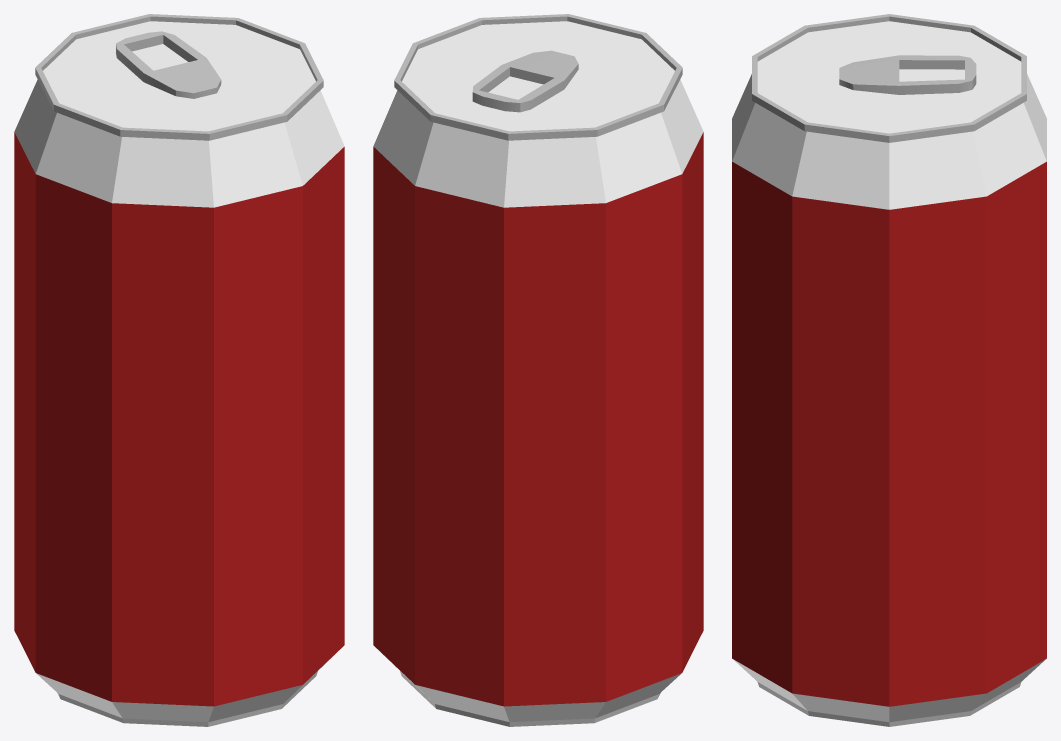
The model's file is can_a.fbx.
3 renders of one model, left to right at view 1: azimuth 30°, elevation 25°; view 2: azimuth 150°, elevation 25°; view 3: azimuth 270°, elevation 25°, orthographic.
Visible parts, largest first — view 1: Can_A; view 2: Can_A; view 3: Can_A.
Part boxes in pixels (left/top/right/bottom): Can_A: left=14, top=14, right=344, bottom=726; Can_A: left=373, top=14, right=703, bottom=726; Can_A: left=732, top=14, right=1046, bottom=726.
Size of the model in its own units: 0.0977 by 0.1956 by 0.093.
